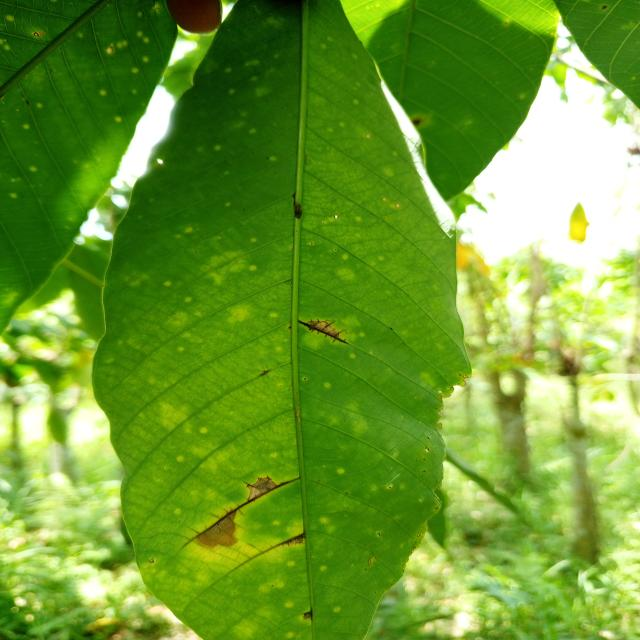Colletotrichum: (304, 378, 306, 380)
Corynespora: (178, 477, 300, 549), (297, 318, 348, 344), (274, 532, 306, 549), (243, 480, 255, 488)
Leaf-Blight: (197, 511, 238, 547), (248, 477, 278, 501)
